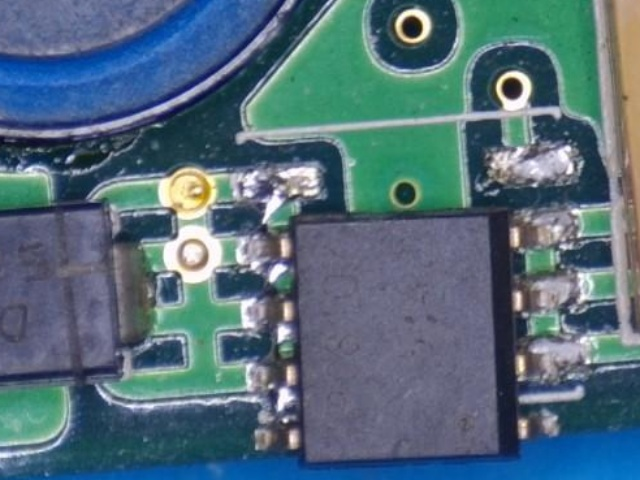pcb_defect: (235, 206, 591, 465), (234, 162, 324, 425)
